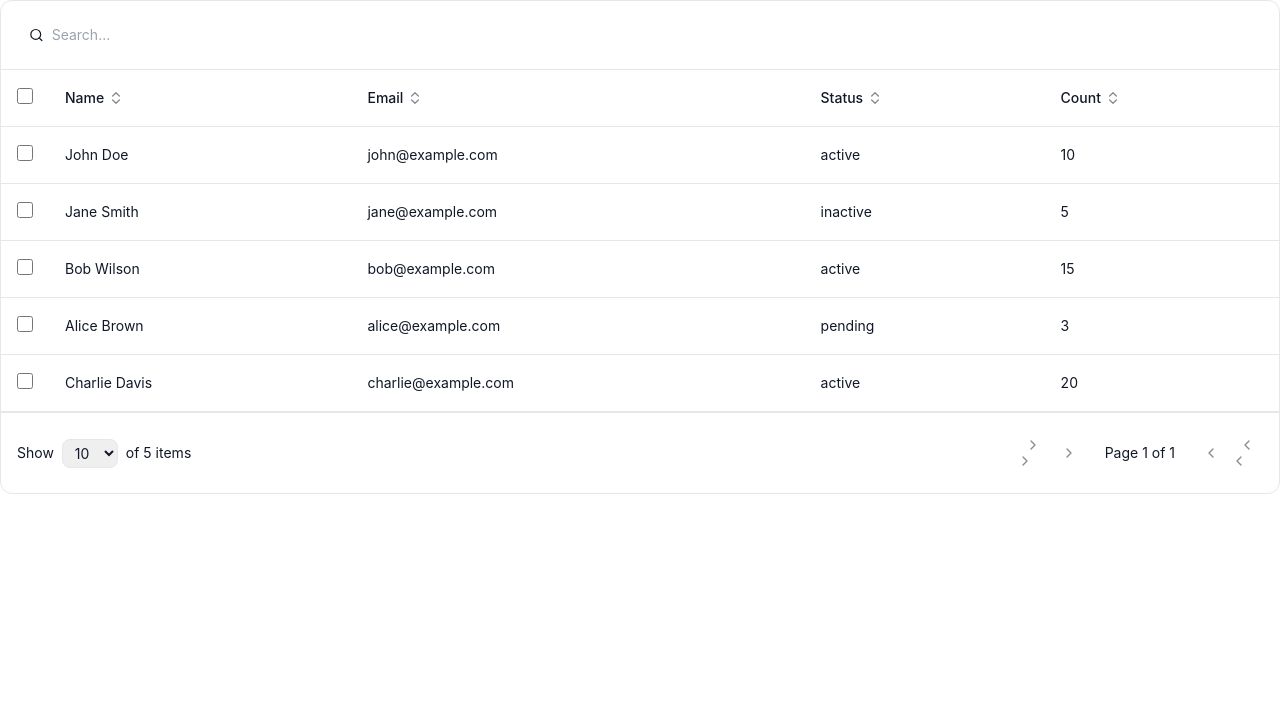
Test: DataTable › Bulk Actions › should show bulk actions when items are selected
Note: Select a row
Click the checkbox next to "John Doe" at (25, 153), box x1=17 y1=145 x2=33 y2=161
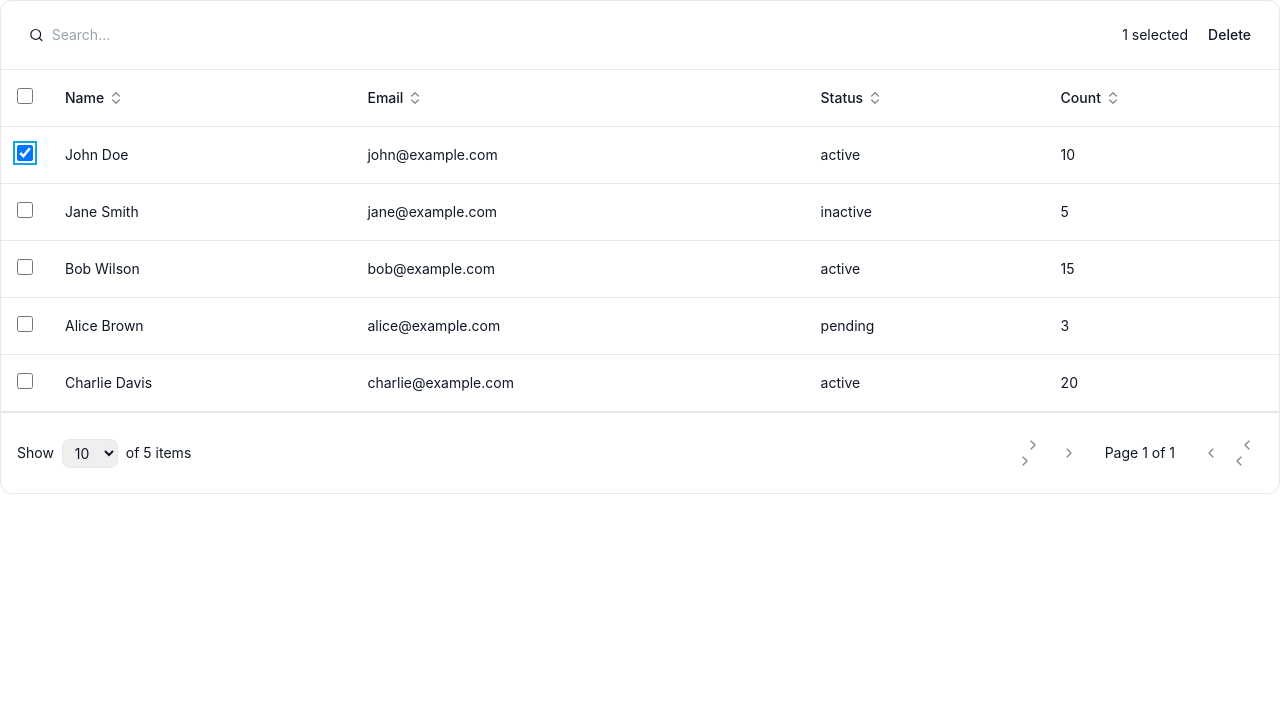
Expected: the text "1 selected" is shown, x1=1122 y1=25 x2=1188 y2=45
Expected: the text "Delete" is shown, x1=1208 y1=25 x2=1251 y2=45
